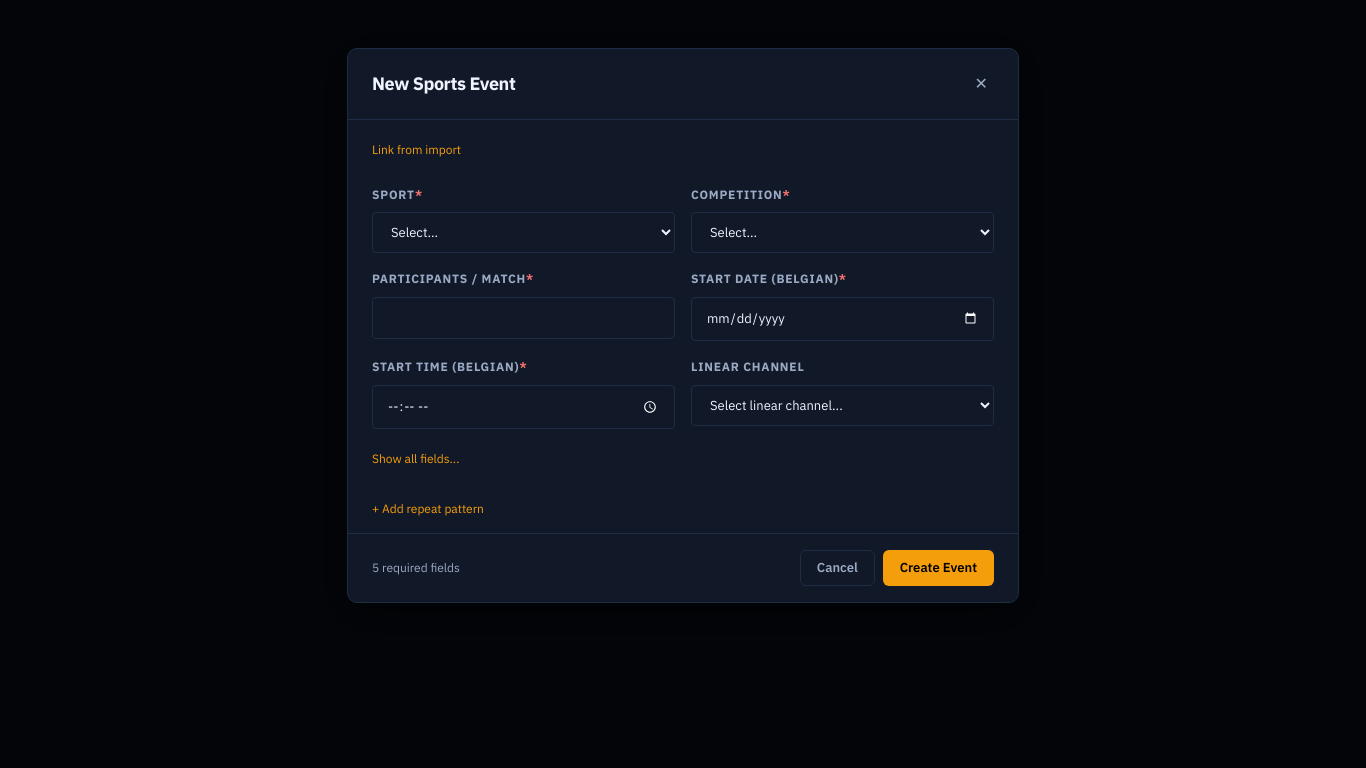
it: DynamicEventForm — save states › successful save shows Saved! and closes after a short delay
The image size is (1366, 768).
Select "⚽ Football" in the 1st dropdown named "⚽ Football" at (524, 233), box [372,212,675,253]
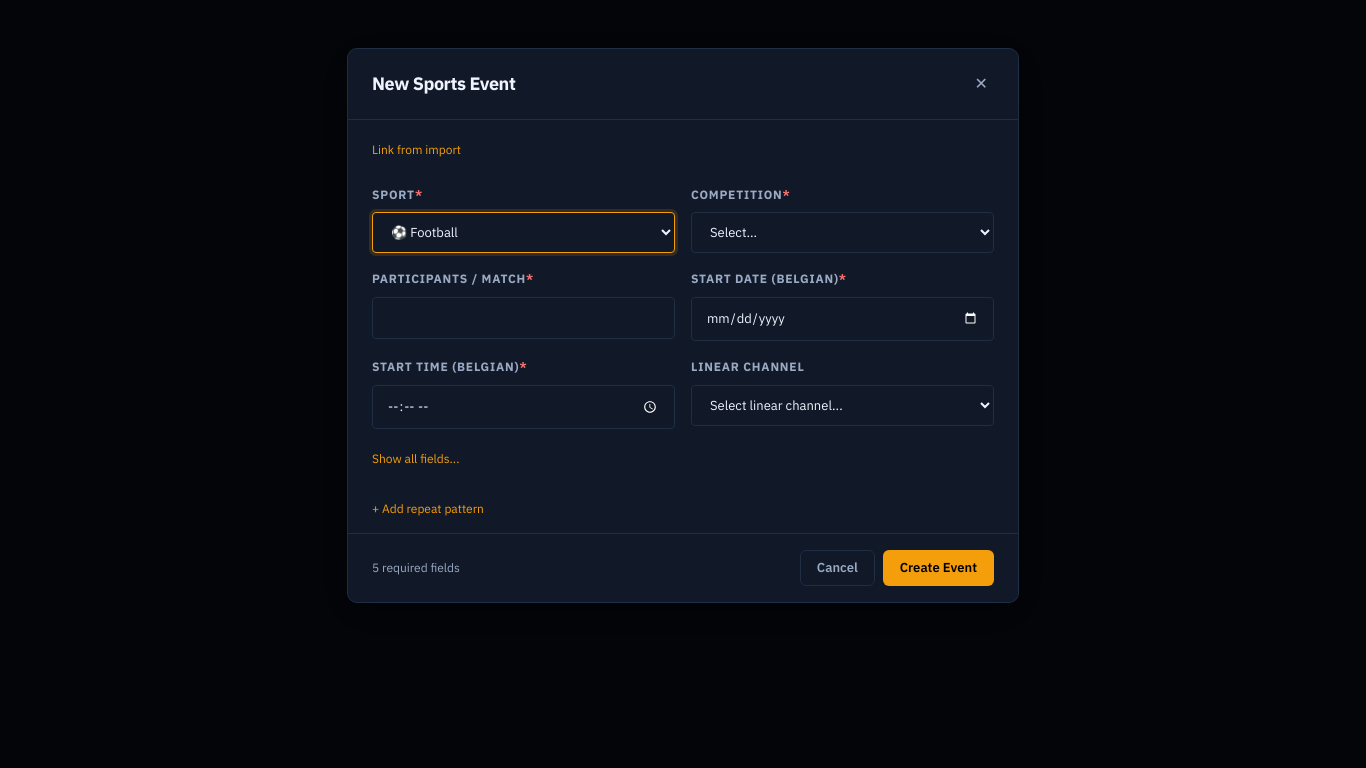
Select "Jupiler Pro League" in the dropdown named "Jupiler Pro League" below "Competition" at (842, 233), box [691,212,994,253]
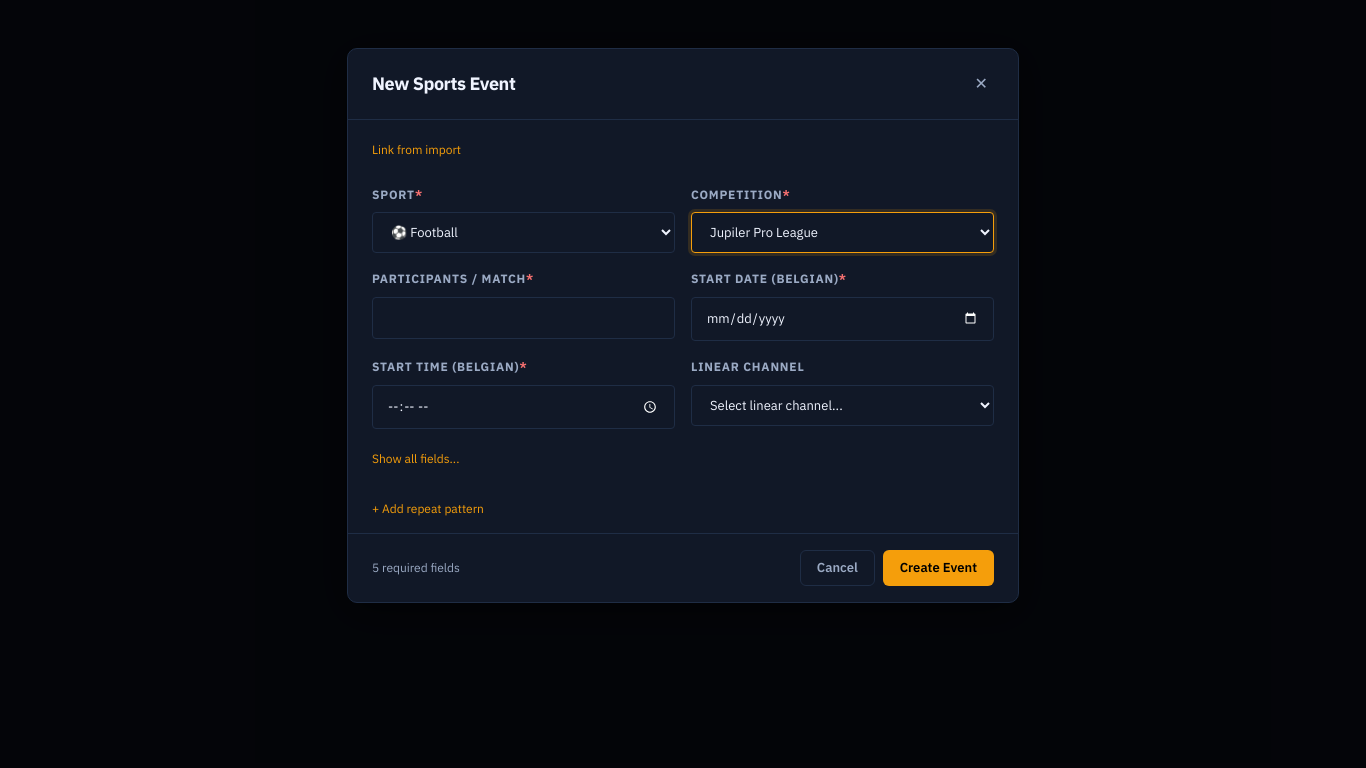
Type "Team A vs Team B" into the field.
click(524, 318); type("Team A vs Team B")  # box [372,297,675,339]
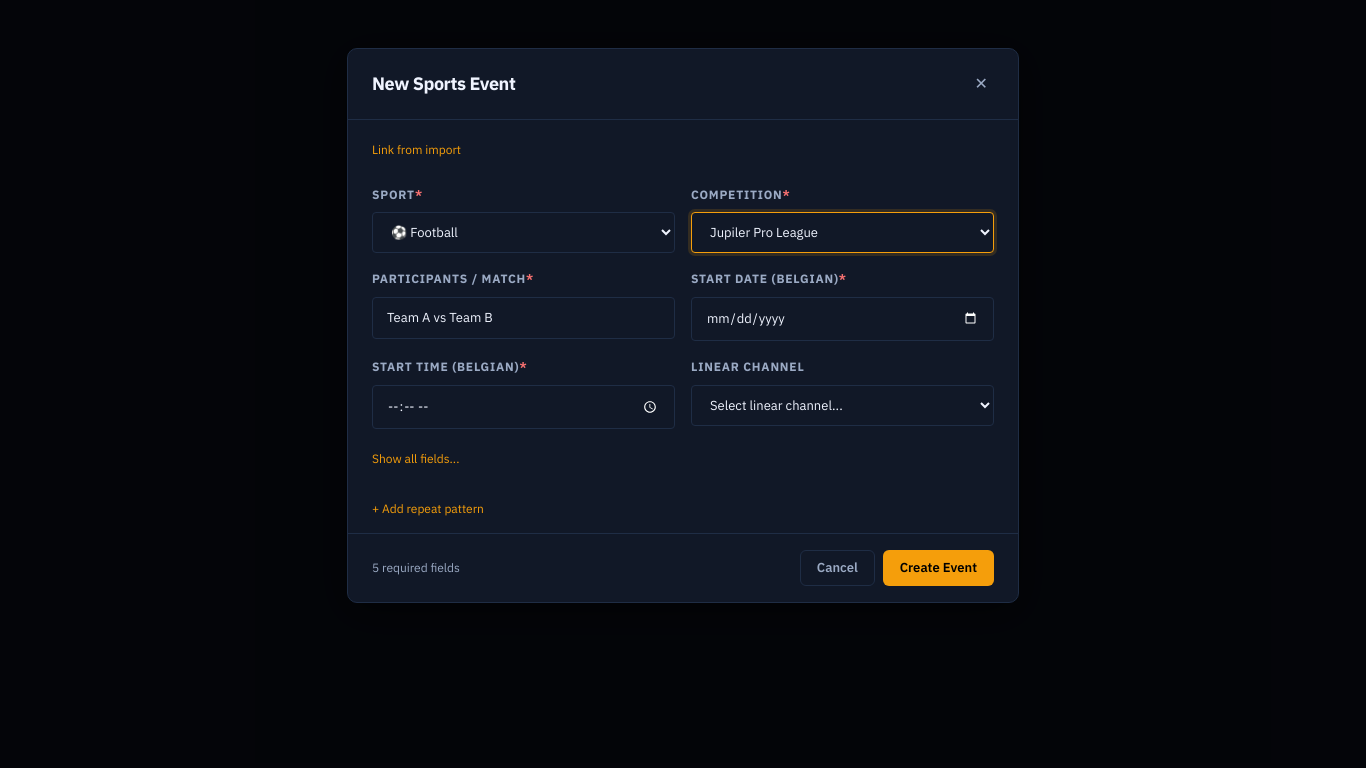
Type "2026-06-20" into the date field.
click(842, 319); type("2026-06-20")  # box [691,297,994,341]
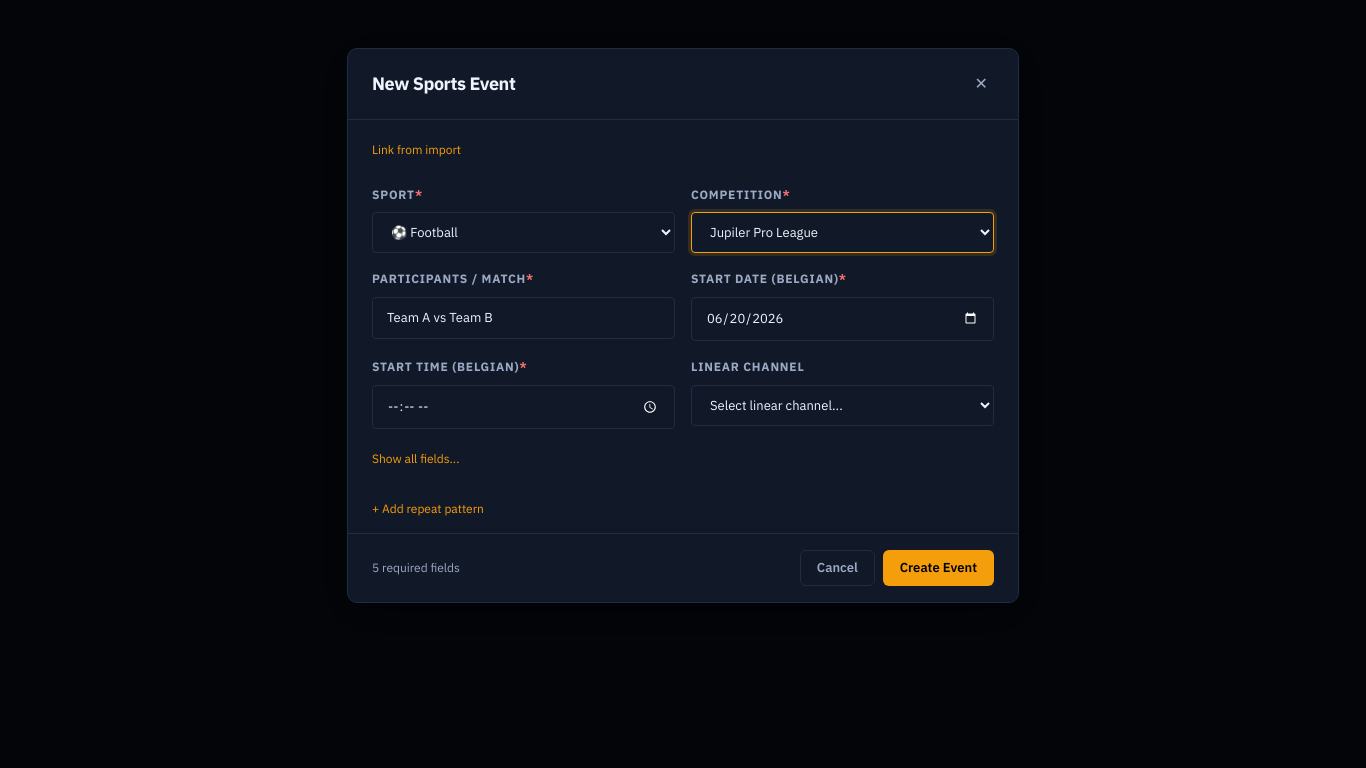
Type "18:00" into the time field.
click(524, 407); type("18:00")  # box [372,384,675,429]
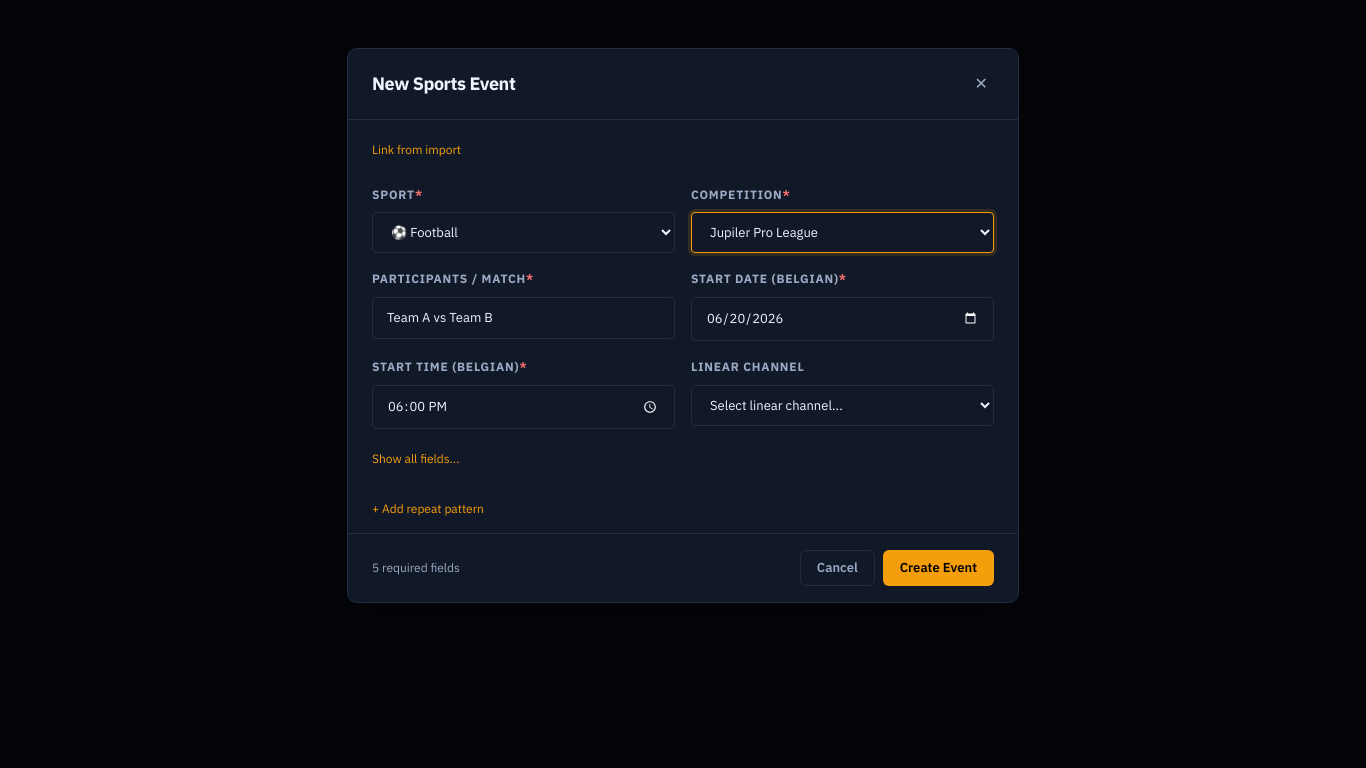
Click the button "Create Event".
click(938, 568)  # box [883,550,994,586]
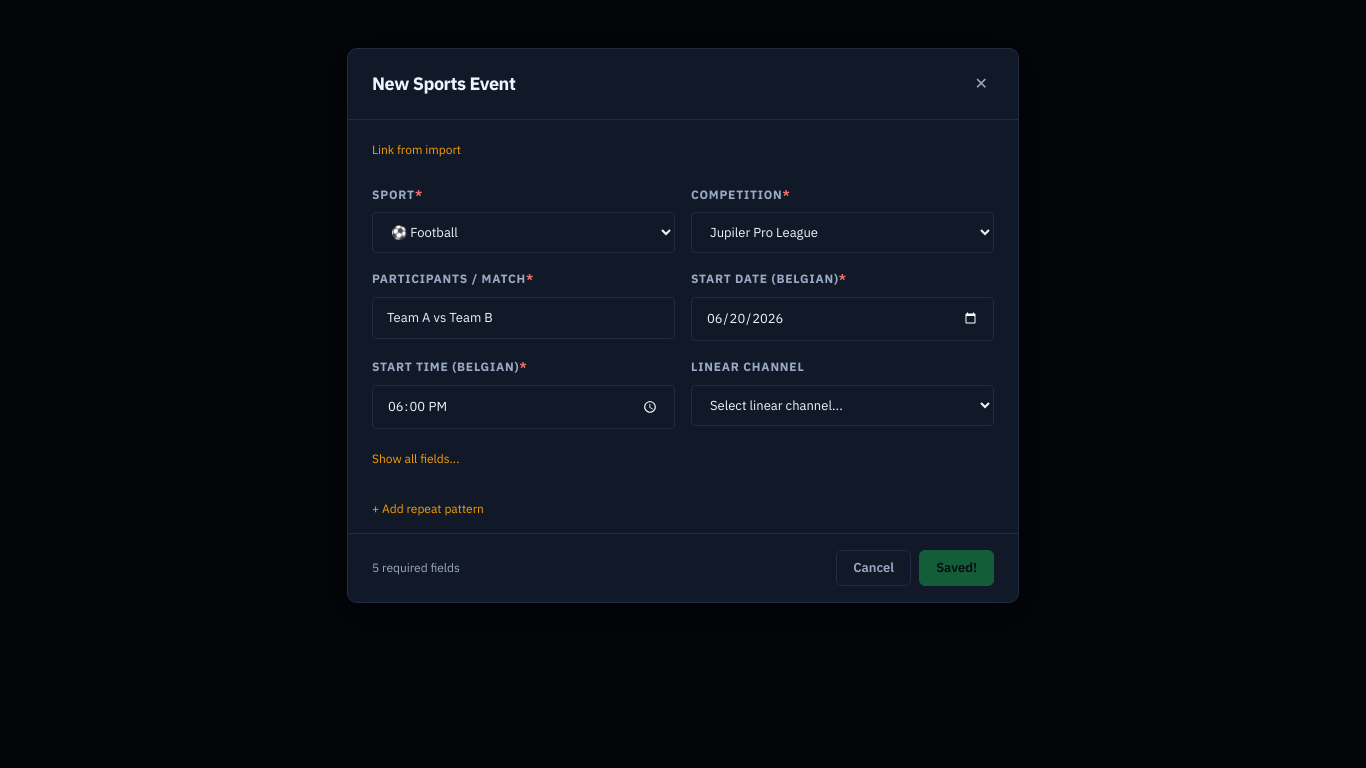
Check: the button "Saved!" is shown, box [919,550,994,586]
